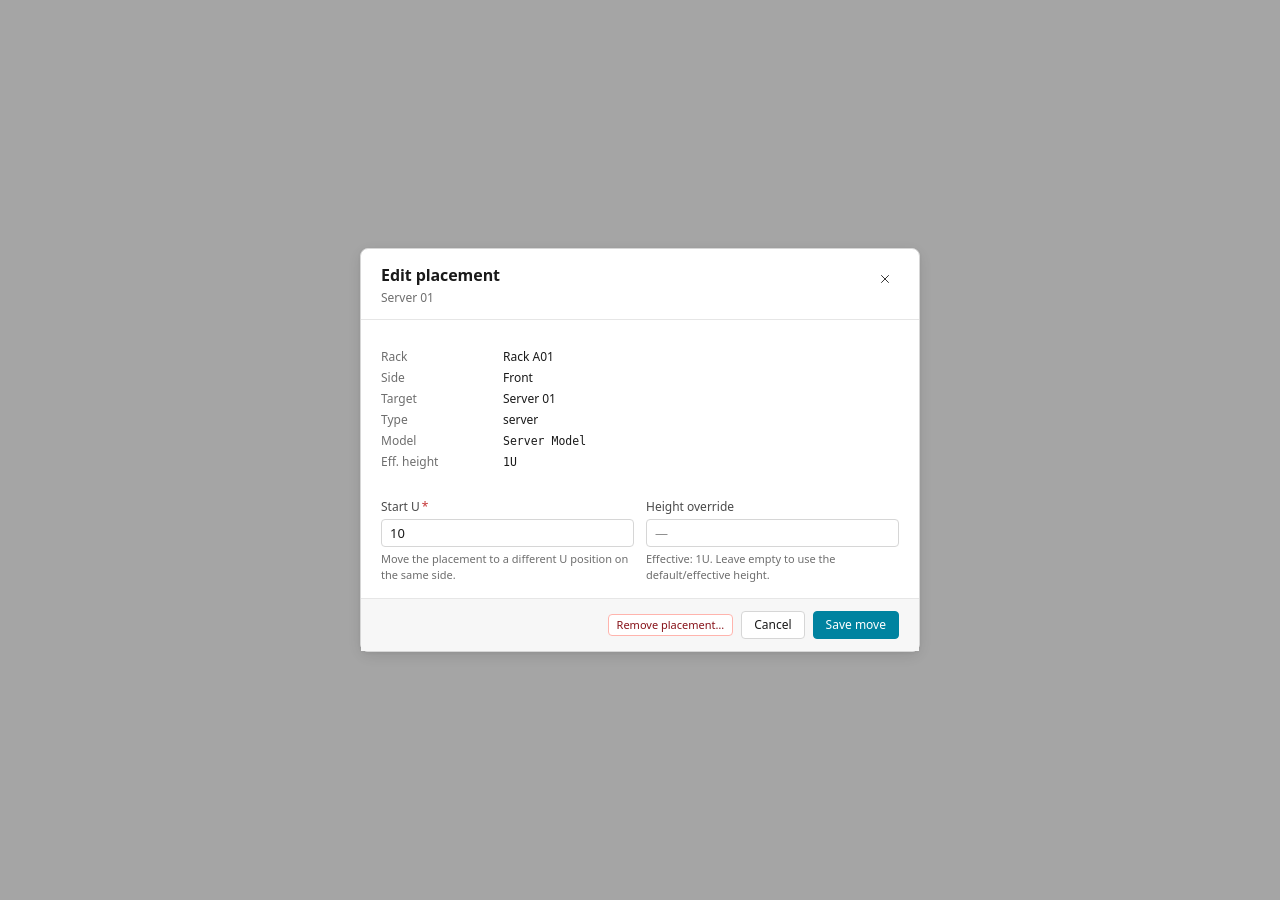
Scenario: EditPlacementModal — open › shows error in footer when backend rejects movePlacement
The width and height of the screenshot is (1280, 900).
Replace the text in the number field with test id "start-u-input" with "15". click: coordinates (508, 533)
box: x1=381 y1=519 x2=634 y2=547
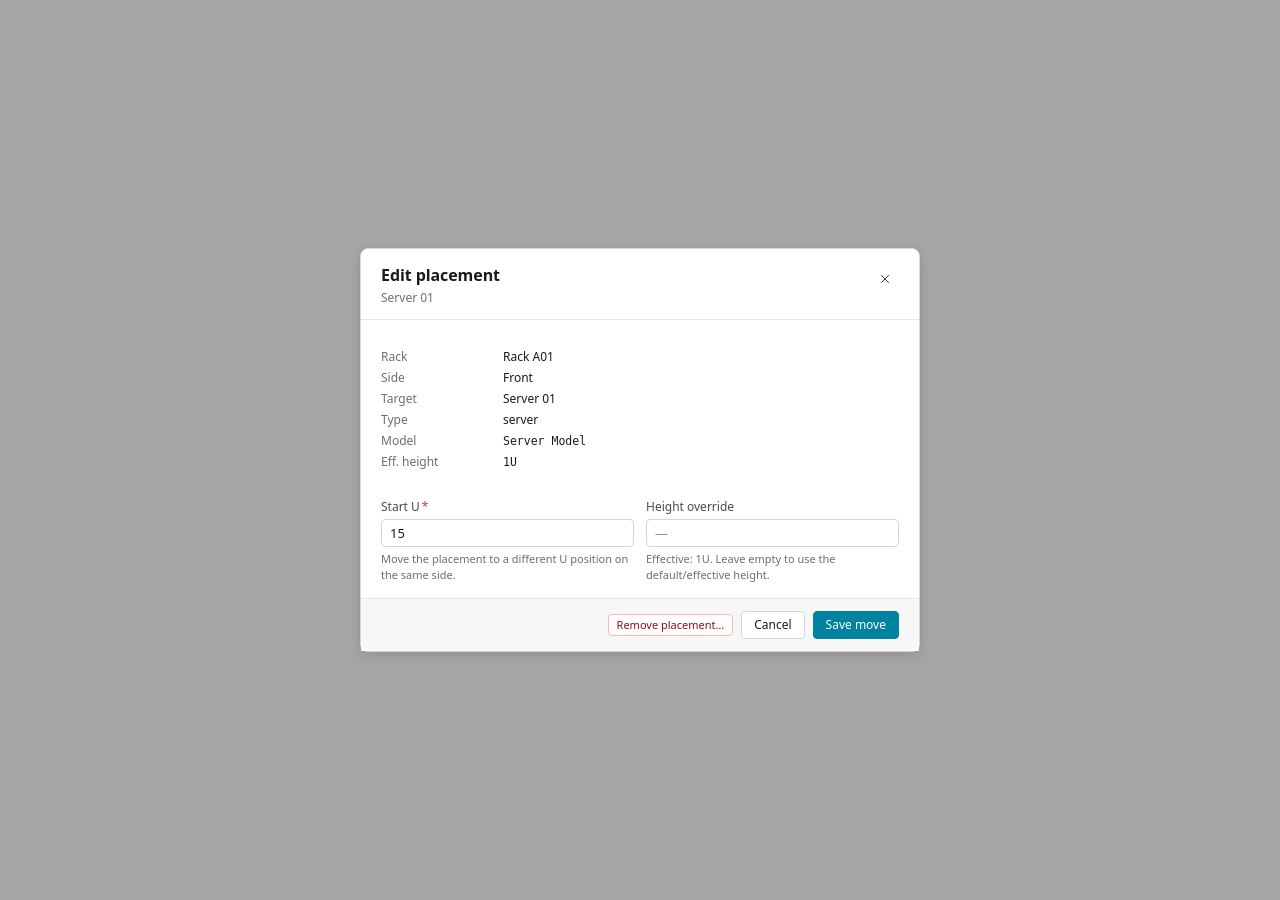
Click the button with test id "save-btn". click: coordinates (856, 625)
box: x1=813 y1=611 x2=899 y2=639
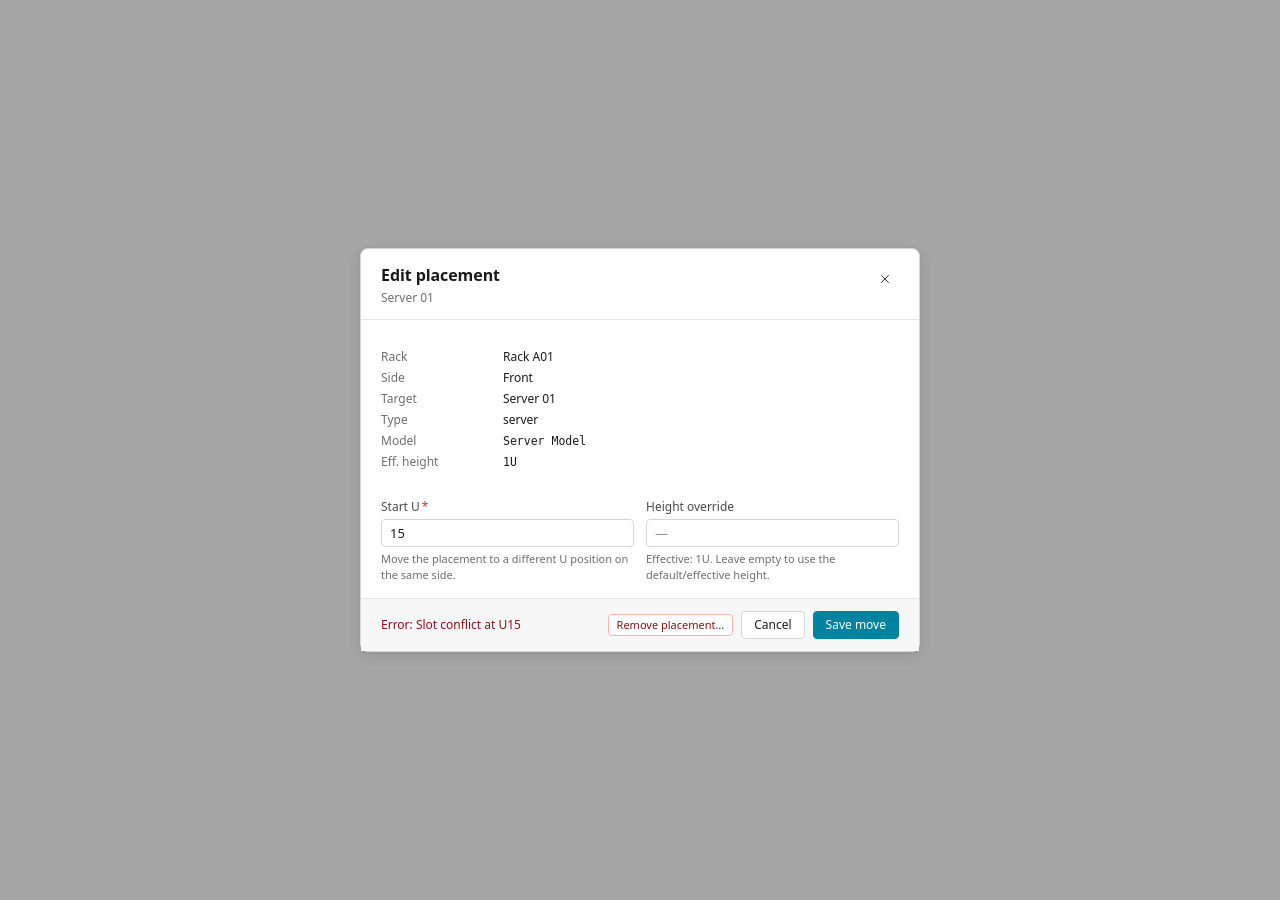
Result: the text "Error: Slot conflict at U15" is shown at x1=381 y1=616 x2=521 y2=633
